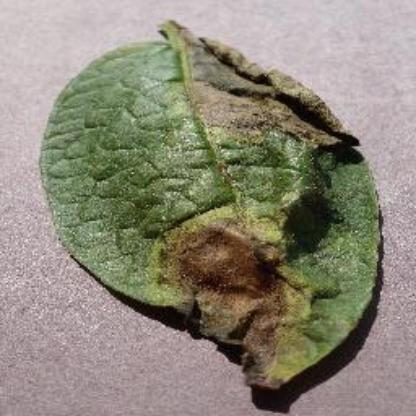Late-Blight: (35, 16, 396, 404)
